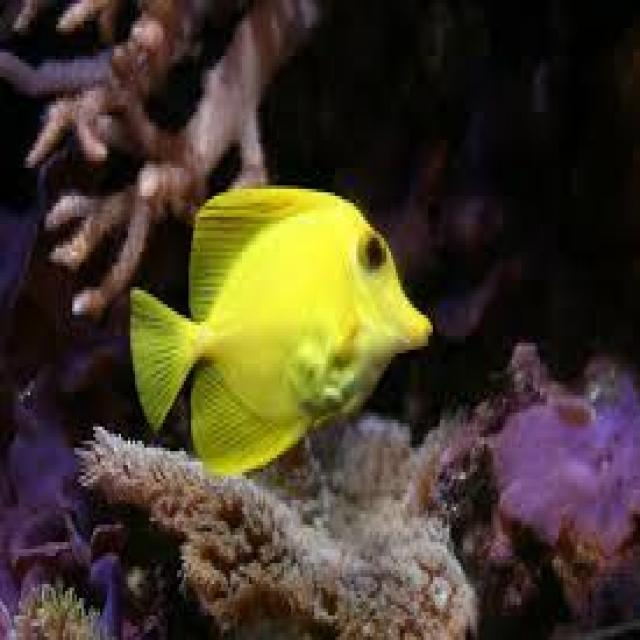TangFish: (122, 186, 431, 479)
